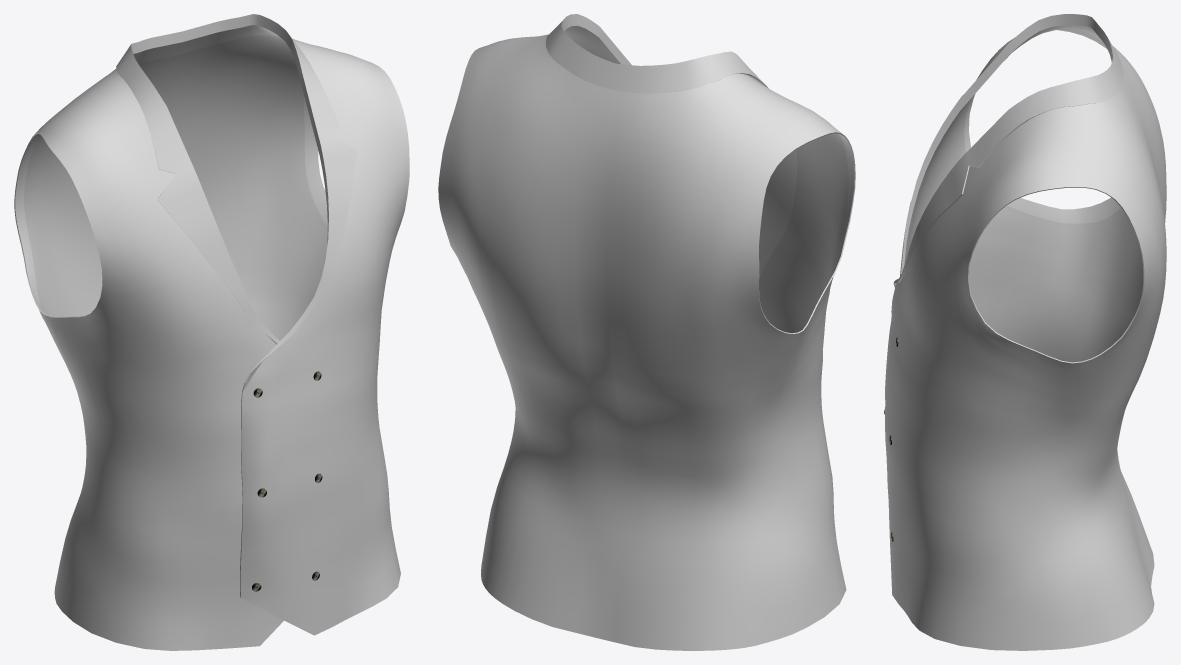
The model's file is SM_CarlosSA_Waistcoat_FrontButtons_DB6Pointed.fbx.
3 views of the same model, side by side, from view 1: azimuth 30°, elevation 25°; view 2: azimuth 150°, elevation 25°; view 3: azimuth 270°, elevation 25° (orthographic). The views are drawn at different scales.
Visible parts, largest first — view 1: SM_CarlosSA_Waistcoat_FrontButtons_DB6Pointed; view 2: SM_CarlosSA_Waistcoat_FrontButtons_DB6Pointed; view 3: SM_CarlosSA_Waistcoat_FrontButtons_DB6Pointed.
Part boxes in pixels (left/top/right/bottom): SM_CarlosSA_Waistcoat_FrontButtons_DB6Pointed: left=14, top=14, right=409, bottom=650; SM_CarlosSA_Waistcoat_FrontButtons_DB6Pointed: left=438, top=14, right=855, bottom=650; SM_CarlosSA_Waistcoat_FrontButtons_DB6Pointed: left=884, top=14, right=1166, bottom=650.
Bounding box in the file's own units: 0.3797 × 0.592 × 0.2803.
